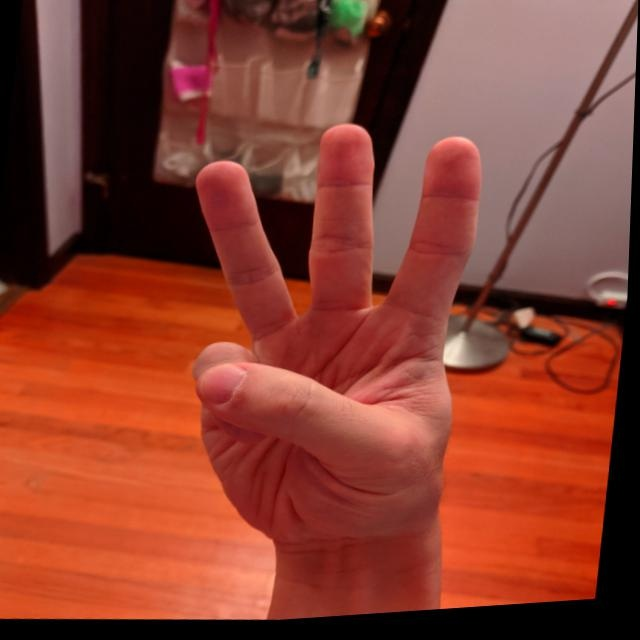W: (154, 104, 499, 567)
